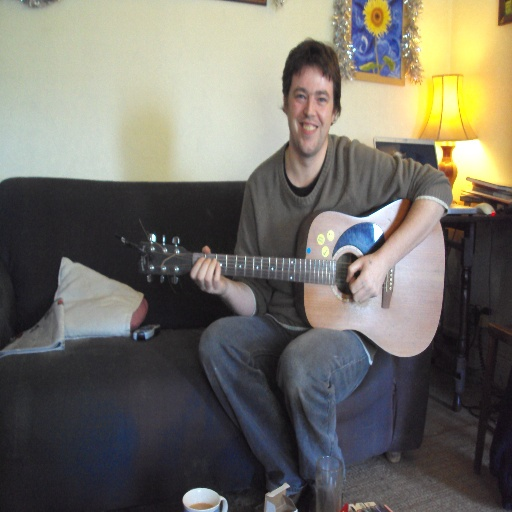hand: (347, 244, 394, 310), (189, 244, 228, 296)
